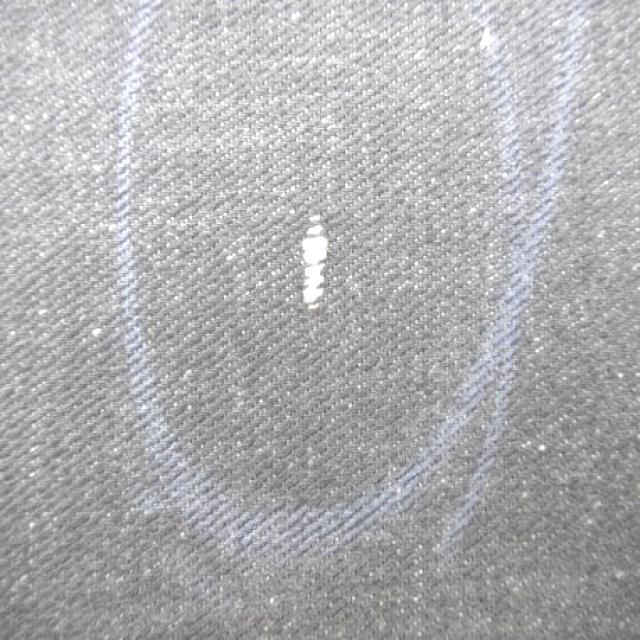Thread_other: (211, 141, 418, 409)
